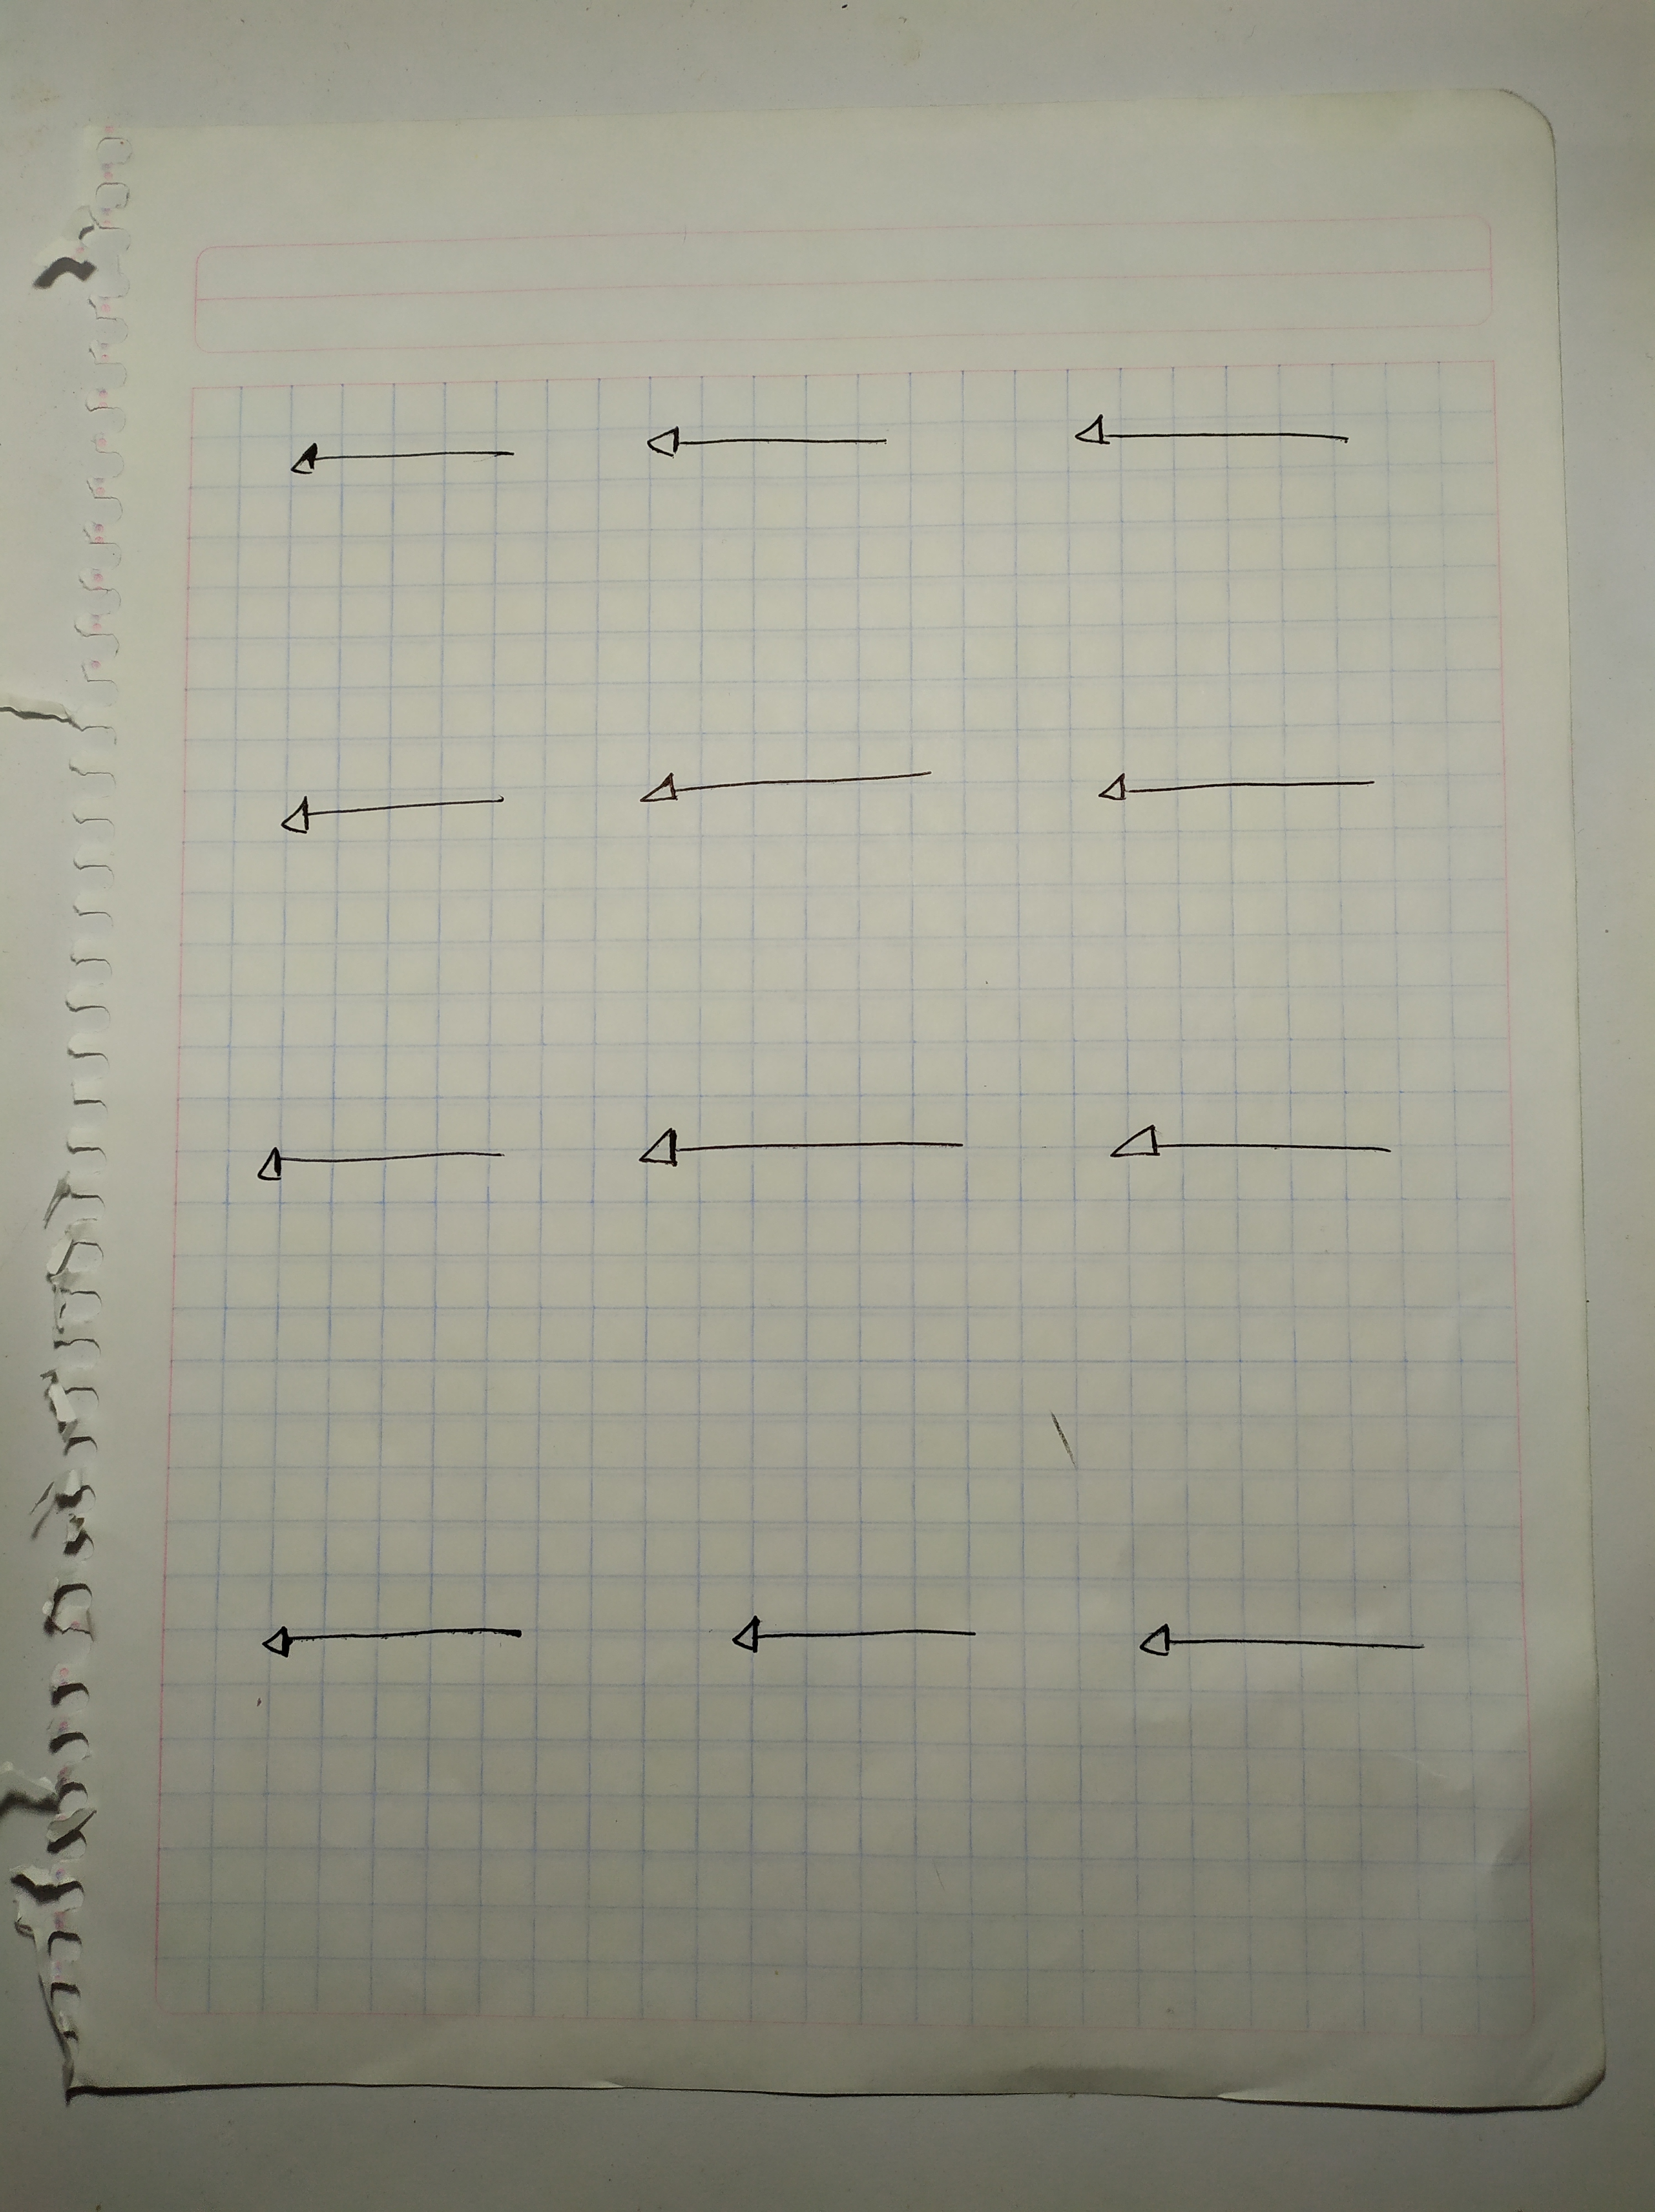arrow_line_left: (1095, 1593, 1460, 1694), (1047, 745, 1448, 836), (605, 1110, 1001, 1189), (690, 1597, 1010, 1689), (233, 1602, 574, 1680), (1081, 1109, 1408, 1187), (1043, 405, 1380, 480), (614, 754, 968, 822), (622, 412, 925, 488), (235, 1126, 530, 1204), (273, 424, 544, 493), (261, 780, 535, 848)
